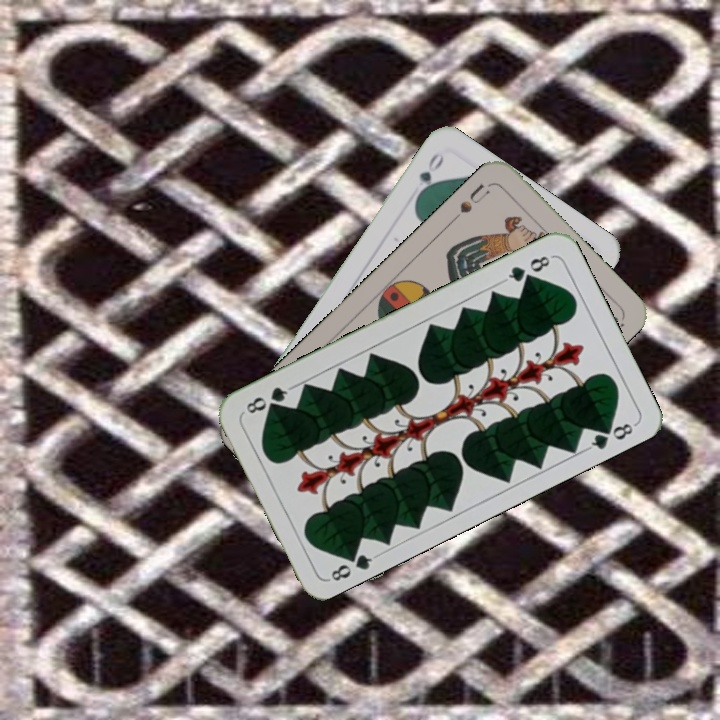G8: (325, 545, 380, 584), (500, 251, 553, 285)
GO: (412, 149, 447, 202)
SU: (447, 179, 493, 225)
